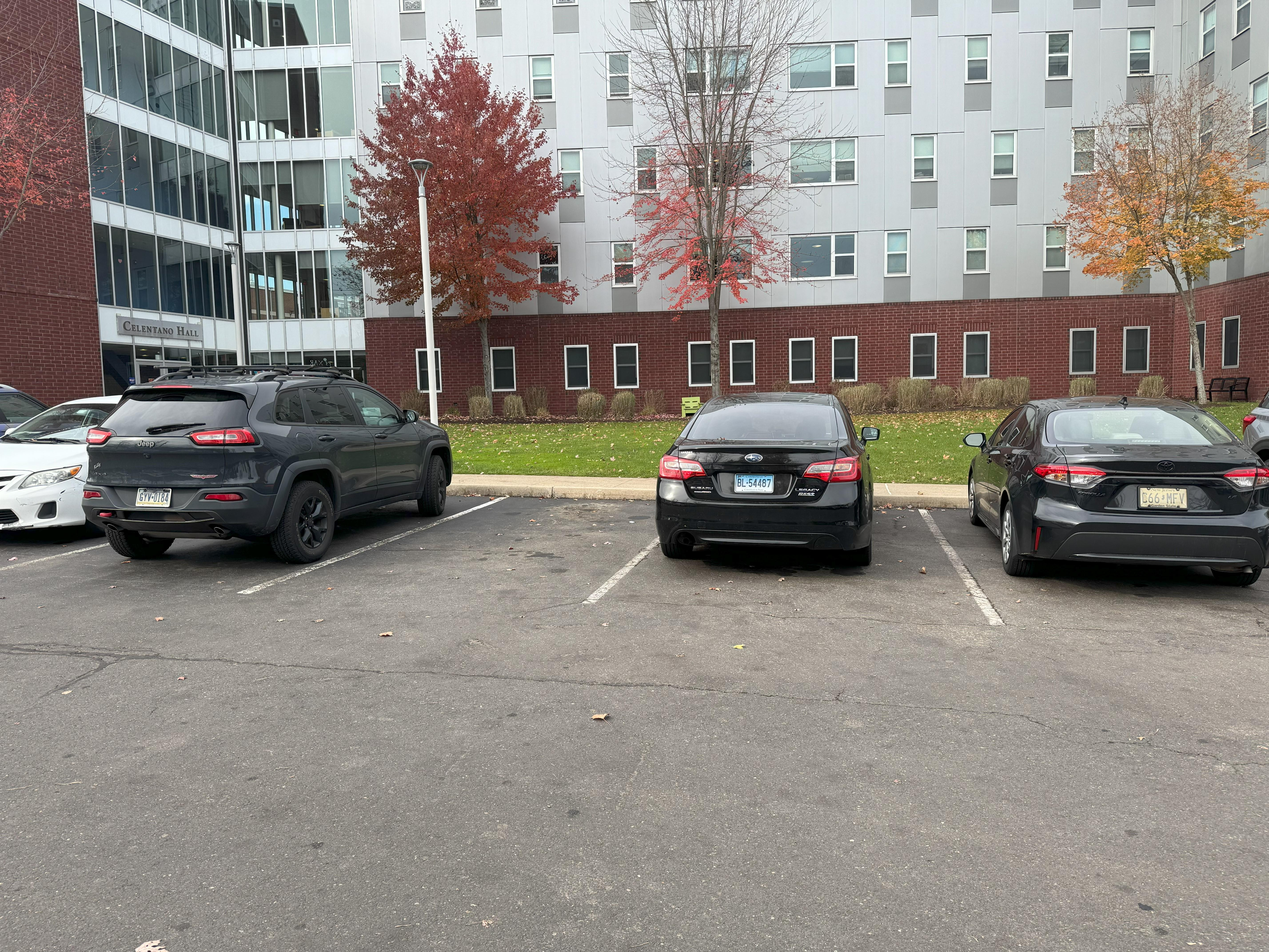empty: (463, 500, 635, 613)
occupied: (89, 352, 457, 595), (967, 380, 1258, 638), (652, 365, 889, 604), (7, 376, 123, 551)
